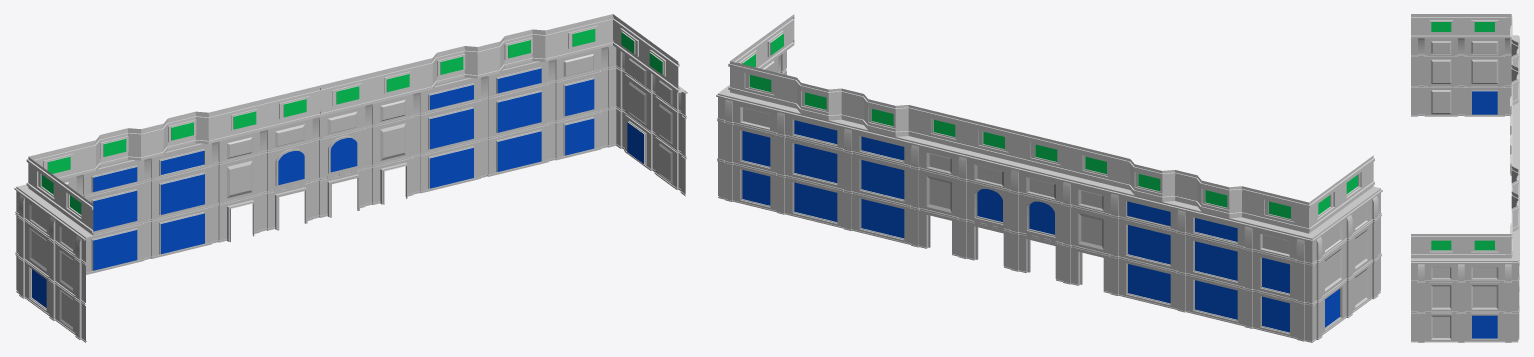
The model's file is Appartement type 3.fbx.
3 views of the same model, side by side, from view 1: azimuth 30°, elevation 25°; view 2: azimuth 150°, elevation 25°; view 3: azimuth 270°, elevation 25° (orthographic). The views are drawn at different scales.
Parts seen in each view (by area): view 1: Appartment_Type3_Low, Appartement_Type3_Top; view 2: Appartment_Type3_Low, Appartement_Type3_Top; view 3: Appartment_Type3_Low, Appartement_Type3_Top.
Part boxes in pixels (box(x1,y1,x2,y2)): Appartment_Type3_Low: box(14, 45, 687, 342); Appartement_Type3_Top: box(26, 14, 679, 235); Appartment_Type3_Low: box(716, 51, 1382, 342); Appartement_Type3_Top: box(728, 14, 1374, 233); Appartment_Type3_Low: box(1411, 35, 1519, 342); Appartement_Type3_Top: box(1411, 14, 1518, 258).
Bounding box in the file's own units: 40.25 × 8.7 × 8.13.
